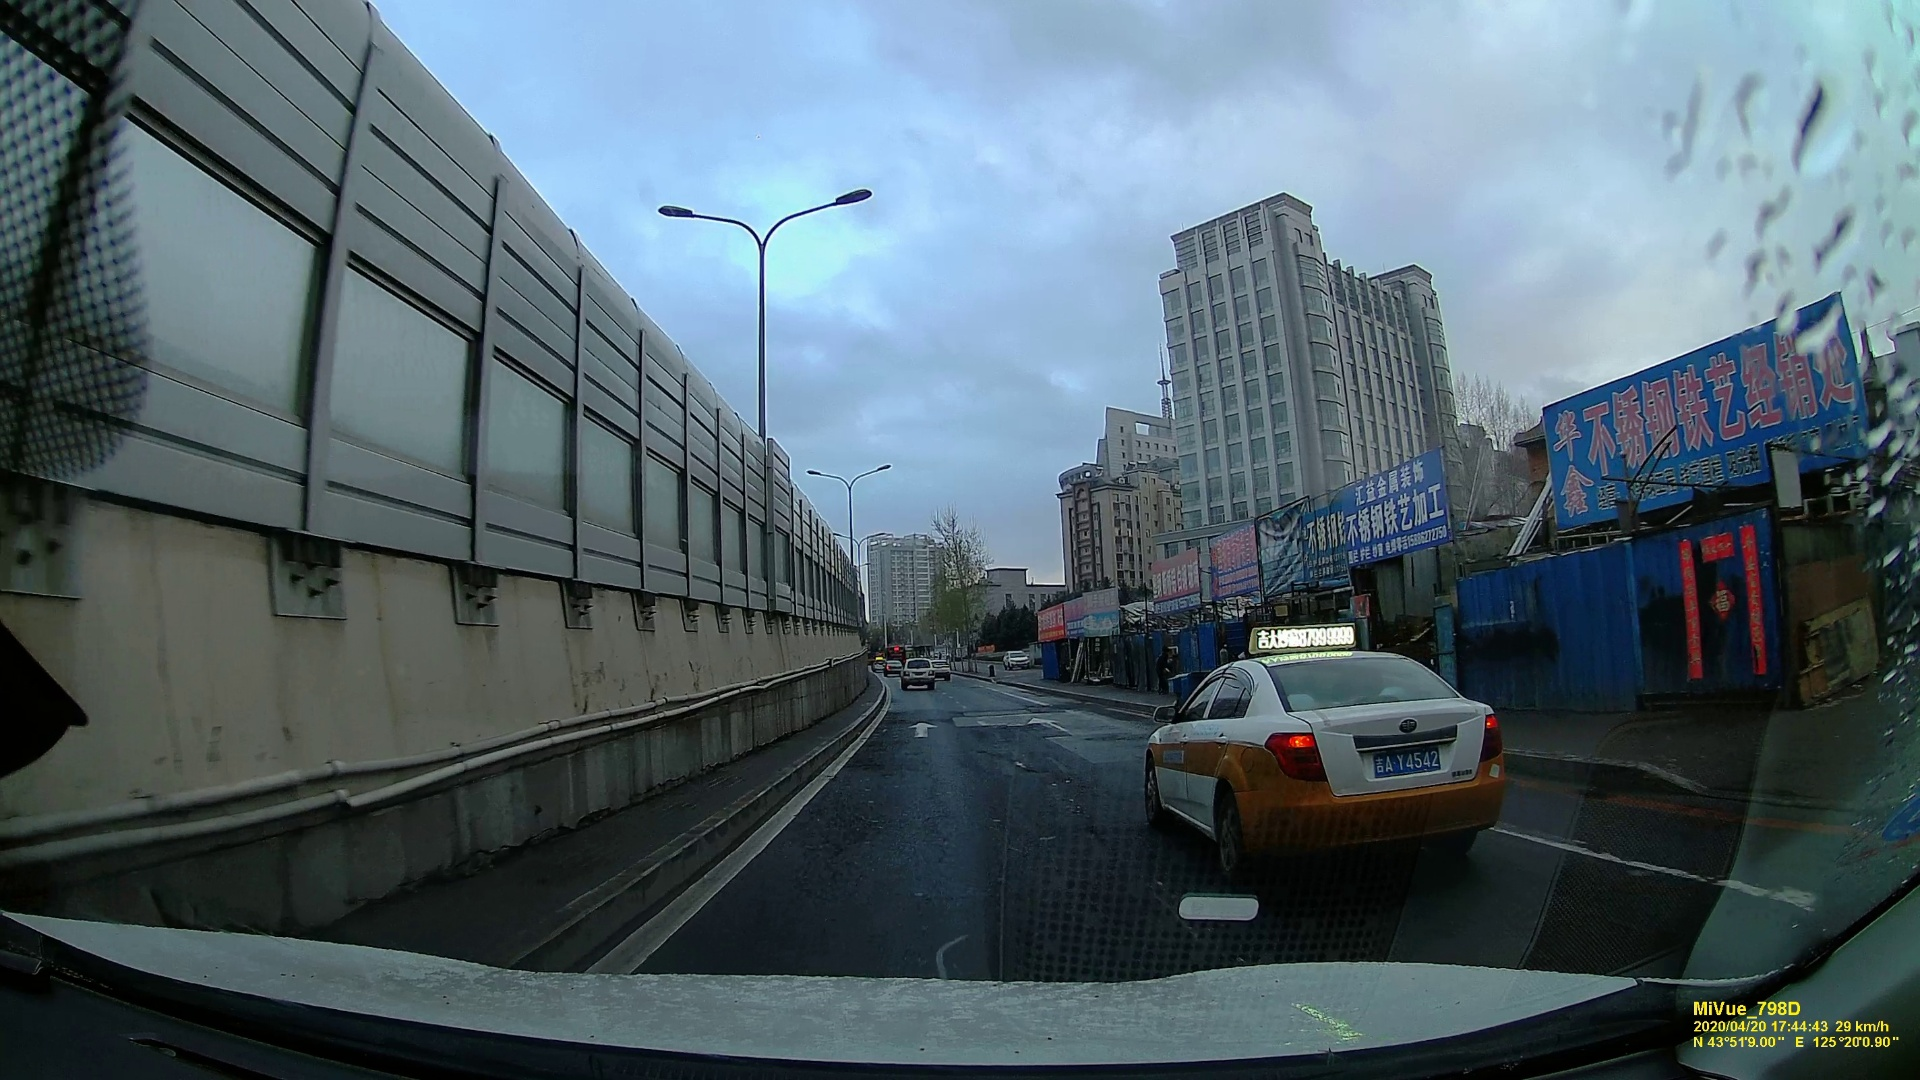vehicle: (1146, 644, 1513, 889), (899, 658, 935, 690)
